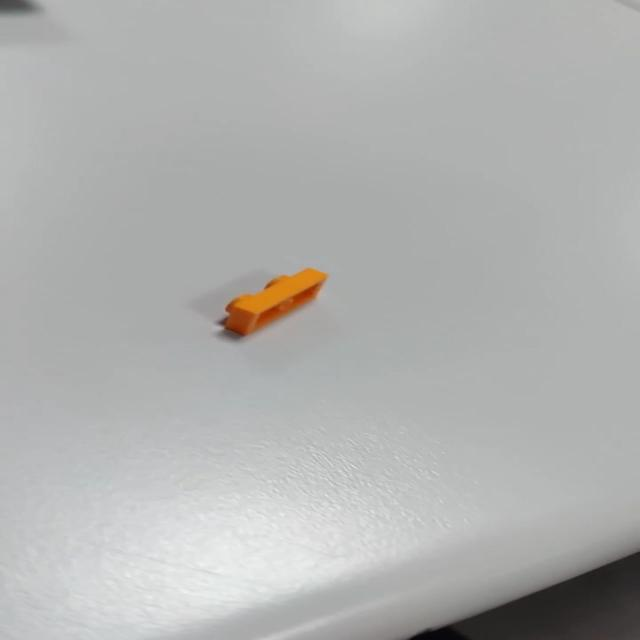C2x1x0: (199, 266, 331, 342)
